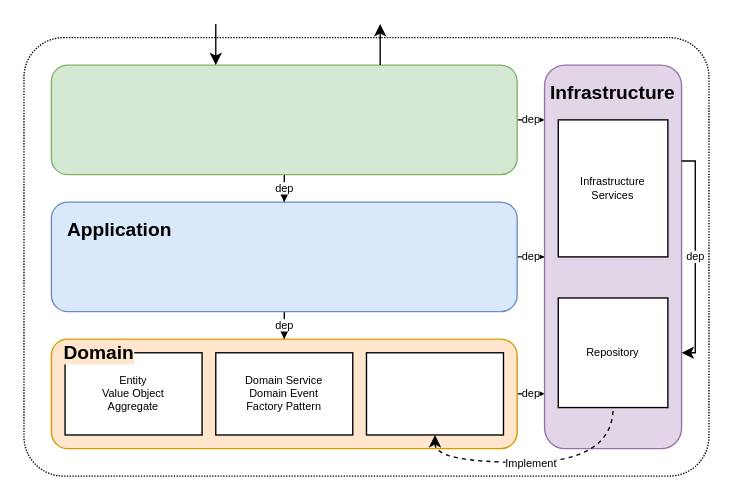
Image size: 733x500. Some labels were removed from this diagram. The shapes that lost their labels are listed below. From the top down, each one's centre as x and y in pixels, then its label:
point 283,119: Interface
point 434,393: Repository Interface
